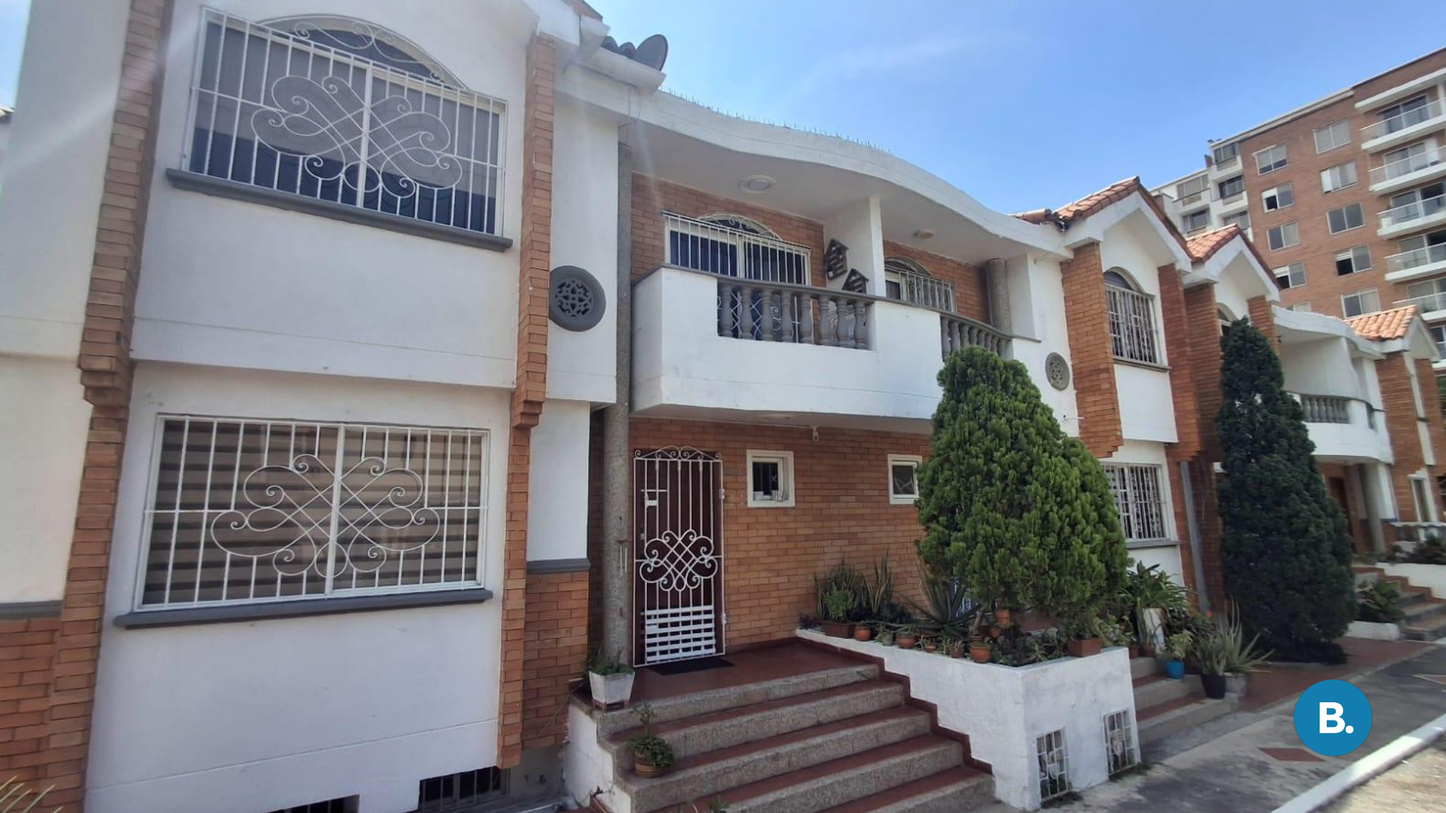House: (16, 7, 1091, 796), (1084, 188, 1444, 649)
